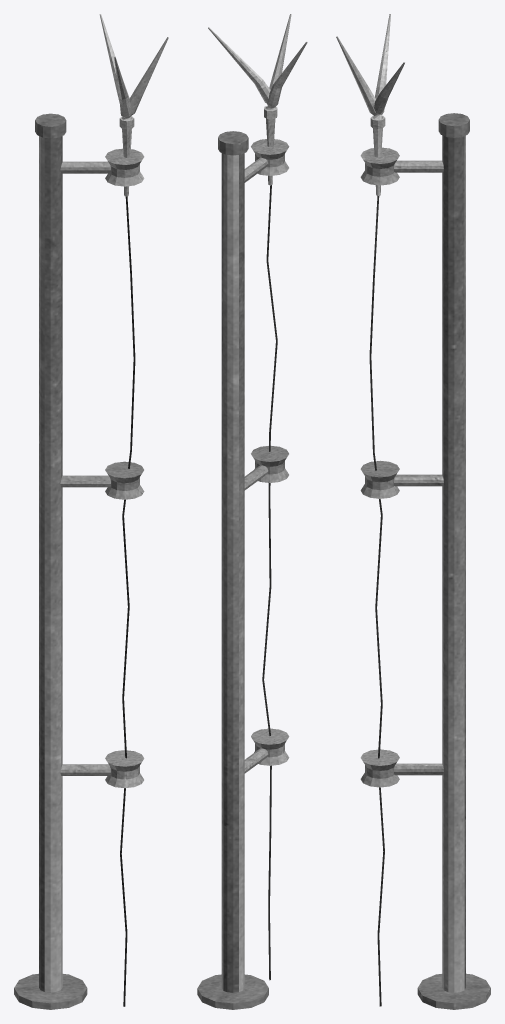
The model's file is Roof_Deco_001.fbx.
3 renders of one model, left to right at view 1: azimuth 90°, elevation 25°; view 2: azimuth 150°, elevation 25°; view 3: azimuth 270°, elevation 25°, orthographic. The views are drawn at different scales.
Visible parts, largest first — view 1: Roof_Deco_001; view 2: Roof_Deco_001; view 3: Roof_Deco_001.
Part boxes in pixels (box(x1,y1,x2,y2)): Roof_Deco_001: box(14, 14, 168, 1009); Roof_Deco_001: box(197, 14, 307, 1009); Roof_Deco_001: box(336, 14, 490, 1009).
Bounding box in the file's own units: 29.9 × 294 × 42.46.
Materials: 1 (1 with a texture image).
